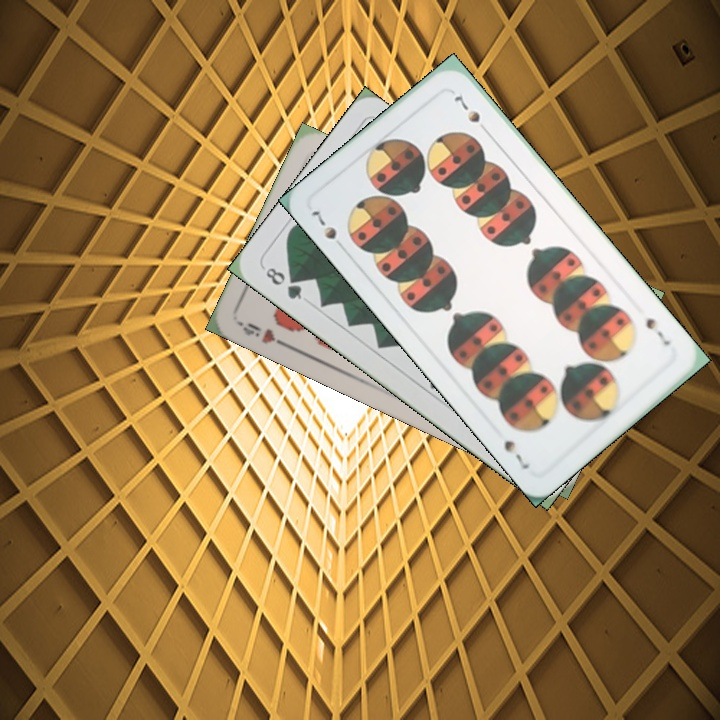G8: (261, 263, 305, 302)
H9: (235, 317, 291, 350)
S7: (308, 206, 349, 254), (641, 313, 673, 349)
